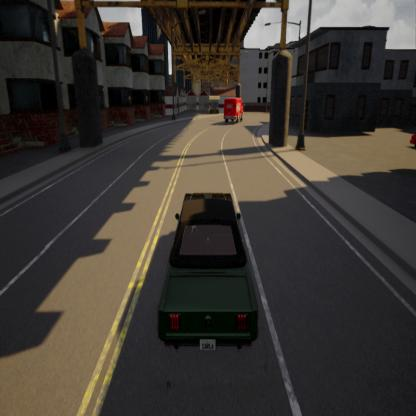Cars: (144, 184, 266, 360), (222, 93, 246, 124)
